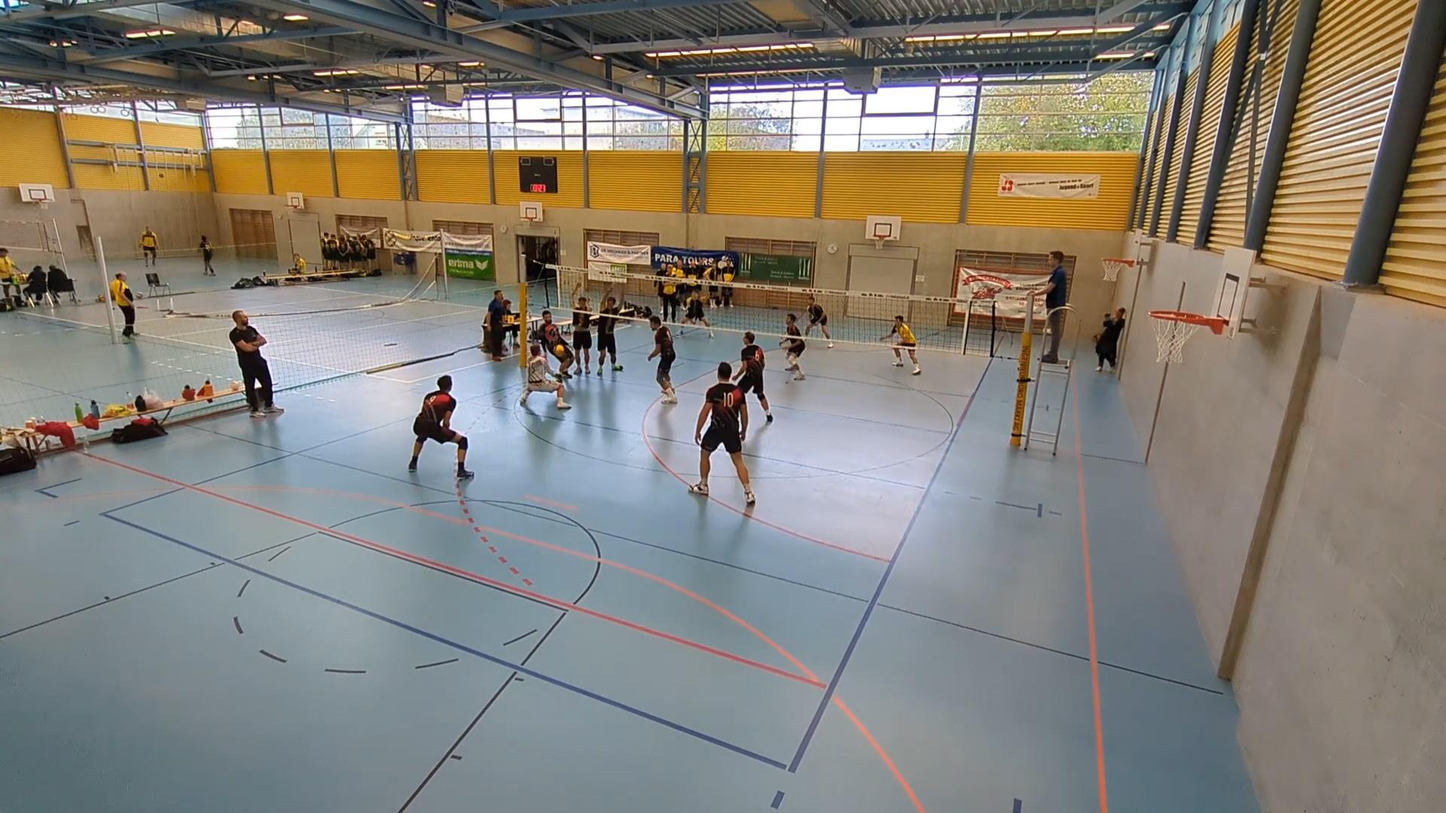Dig: (522, 343, 569, 410)
Player: (689, 362, 755, 505), (408, 375, 473, 479), (734, 332, 773, 422), (647, 315, 677, 403), (537, 309, 574, 378), (881, 316, 921, 374), (596, 291, 622, 375), (572, 284, 593, 373), (779, 313, 805, 380), (682, 286, 713, 337), (804, 295, 833, 346)
ball: (555, 341, 570, 362)
